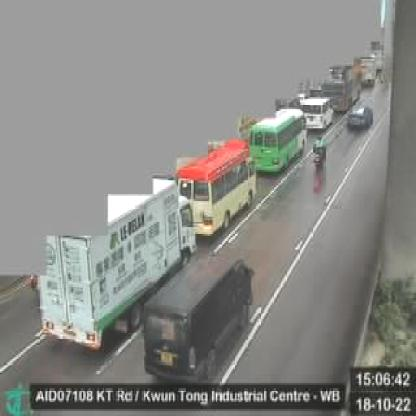Bus: (250, 110, 308, 177)
Car: (143, 253, 254, 385), (301, 96, 334, 132), (344, 103, 374, 132)
Minibus: (178, 138, 257, 237)
Truck: (37, 178, 196, 351), (321, 56, 363, 113)
